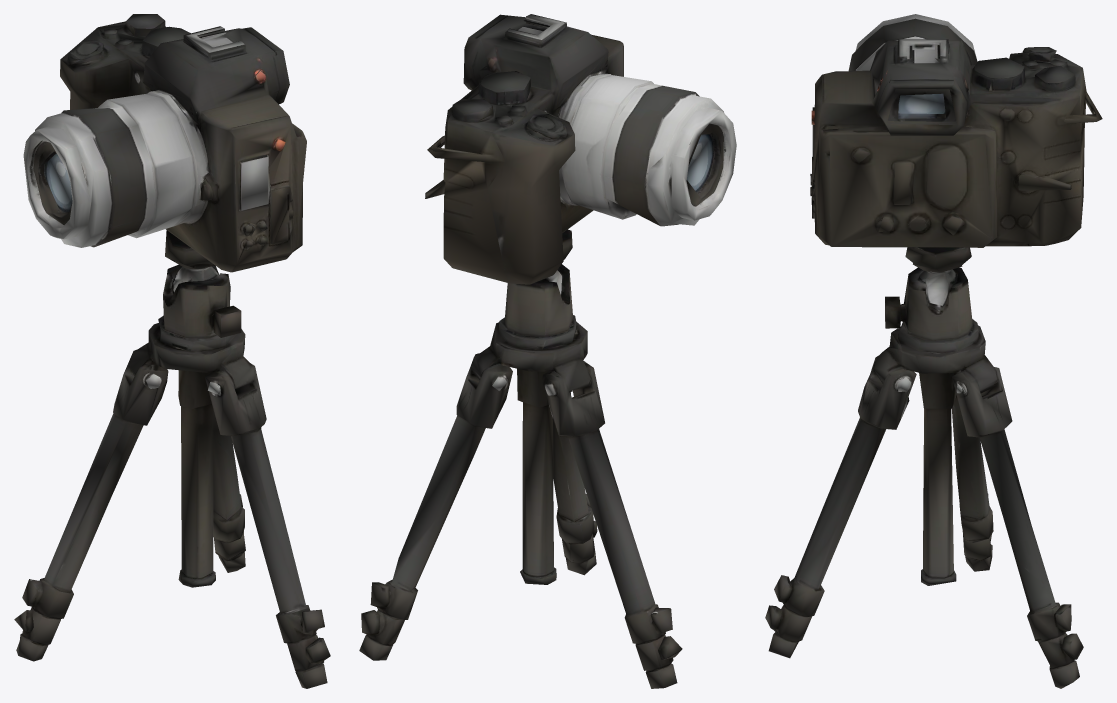
The model's file is camera.glb.
3 renders of one model, left to right at view 1: azimuth 30°, elevation 25°; view 2: azimuth 150°, elevation 25°; view 3: azimuth 270°, elevation 25°, orthographic.
Parts seen in each view (by area): view 1: node_0; view 2: node_0; view 3: node_0.
Part boxes in pixels (x1=…): node_0: x1=14, y1=14, x2=330, y2=688; node_0: x1=359, y1=14, x2=736, y2=688; node_0: x1=765, y1=14, x2=1102, y2=688.
Bounding box in the file's own units: 0.4837 × 1.03 × 0.5284.
1 material, 1 textured.
